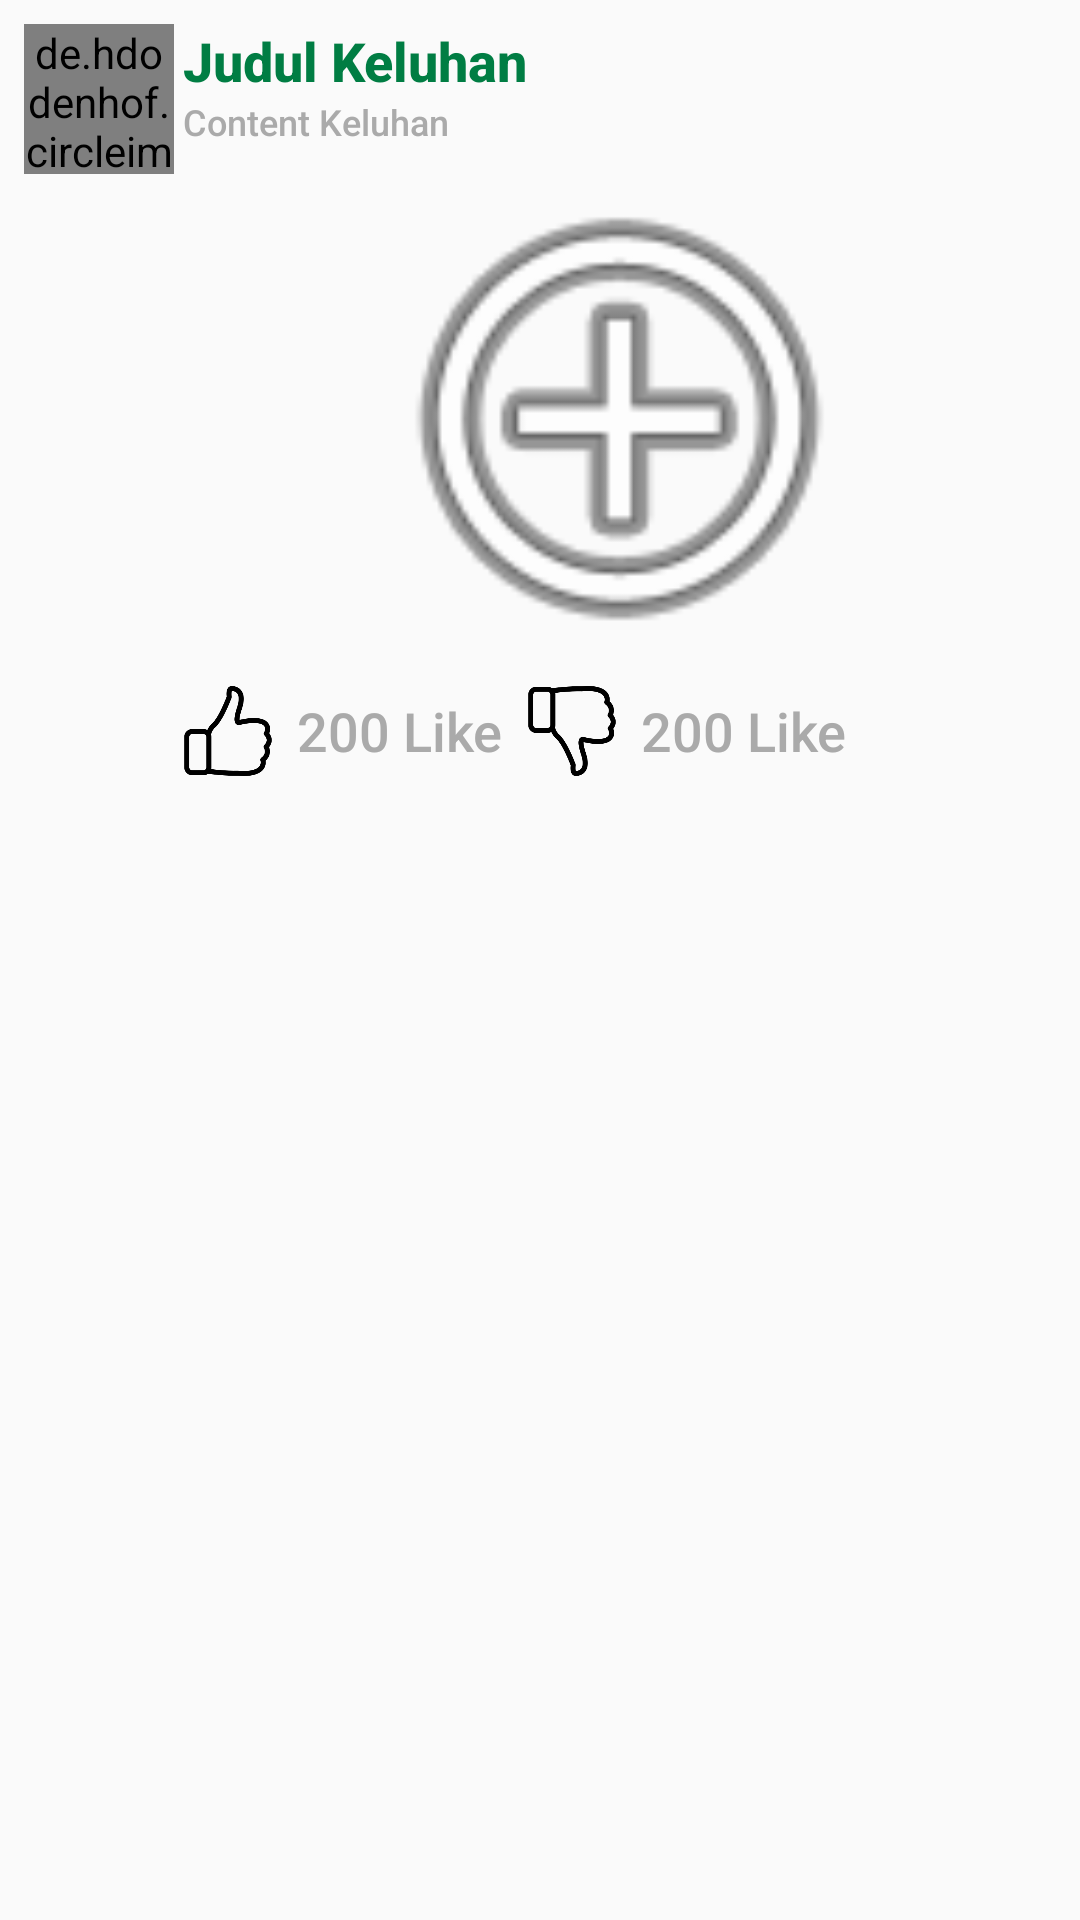

Where icons sit on this 1080 × 1920 app screen, as (x1, y1, x2, y2):
dislike: (528, 686, 616, 776)
